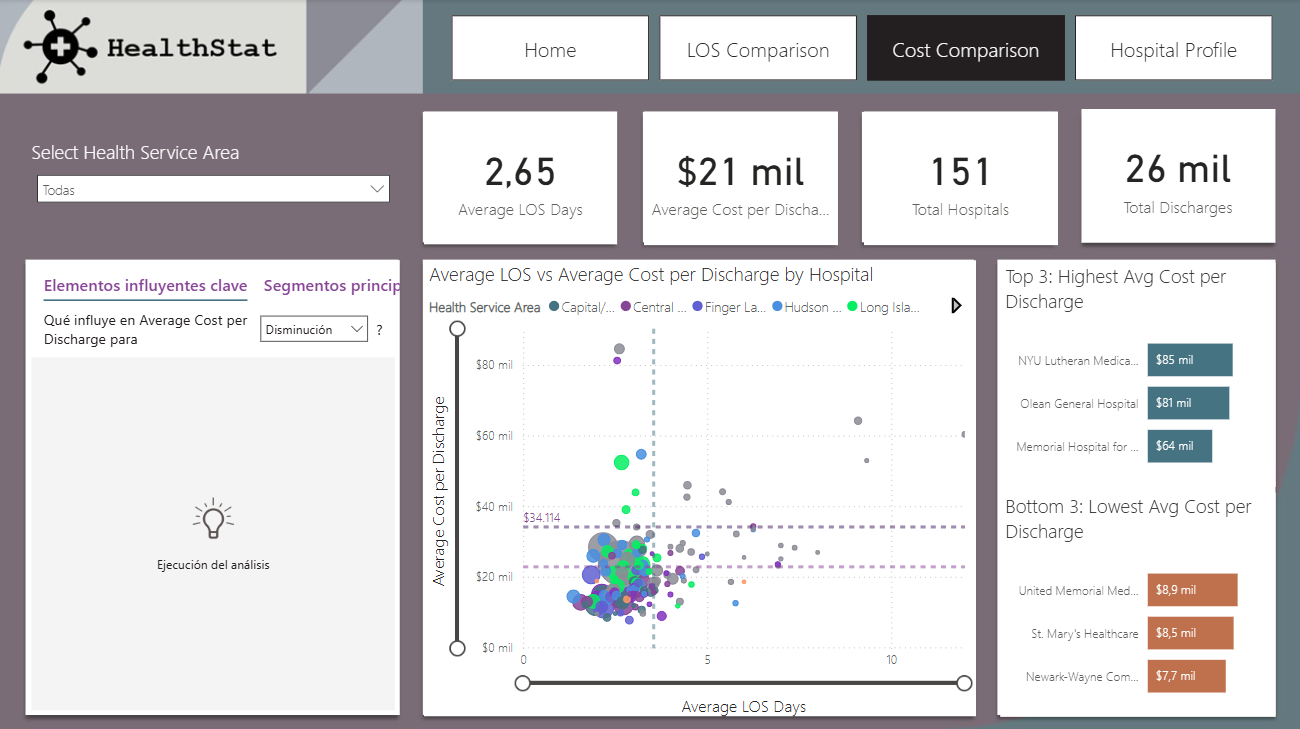

The page's visual inventory and layout, read from the dashboard file:
{"tool":"powerbi","page":{"name":"Cost Comparison","canvas":[1280,720],"ordinal":2},"visuals":[{"type":"scatterChart","title":"Average LOS vs Average Cost per Discharge by Hospital","fields":{"Category":["hospital_discharges.facility_name"],"X":["_Measures.Average LOS Days"],"Y":["_Measures.Average Cost per Discharge"],"Size":["_Measures.Total Discharges"],"Series":["hospital_discharges.health_service_area"]},"box":[416.9,256.9,541.5,446.9],"z":0},{"type":"slicer","title":"Select Health Service Area","fields":{"Values":["hospital_discharges.health_service_area"]},"box":[27.3,138,366.7,74.7],"z":1000},{"type":"keyDriversVisual","fields":{"ExplainBy":["hospital_discharges.apr_risk_of_mortality","hospital_discharges.apr_severity_of_illness_description","hospital_discharges.ccs_diagnosis_description","hospital_discharges.patient_disposition","hospital_discharges.gender","hospital_discharges.Age Bins","surgical_program_size_summary.Surgical Program Size","hospital_discharges.health_service_area"],"Target":["_Measures.Average Cost per Discharge"]},"box":[27.3,256.7,366.7,446.7],"z":2000},{"type":"clusteredBarChart","title":"Top 3: Highest Avg Cost per Discharge","fields":{"Category":["hospital_discharges.facility_name"],"Y":["_Measures.Average Cost per Discharge"]},"box":[982.7,258.7,270,220],"z":3000},{"type":"clusteredBarChart","title":"Bottom 3: Lowest Avg Cost per Discharge","fields":{"Category":["hospital_discharges.facility_name"],"Y":["_Measures.Average Cost per Discharge"]},"box":[982.5,485,270,220],"z":4000},{"type":"card","fields":{"Values":["_Measures.Average LOS Days"]},"box":[417.1,110.6,189.7,130.7],"z":5000},{"type":"card","fields":{"Values":["_Measures.Average Cost per Discharge"]},"box":[633.5,110.6,190,131.2],"z":6000},{"type":"card","fields":{"Values":["_Measures.Total Hospitals"]},"box":[848.6,110,190,131.4],"z":7000},{"type":"card","fields":{"Values":["_Measures.Total Discharges"]},"box":[1062.9,108.6,190,131.4],"z":8000},{"type":"pageNavigator","box":[444.3,15.7,808.6,64.3],"z":8001}]}

Visuals, with their boxes in screenshot pixels (x1, y1, x2, y2), scaled from the page's 1280x720 canvas onto the 1300x729 screenshot:
"Average LOS vs Average Cost per Discharge by Hospital" scatterChart: detection(423, 260, 973, 713)
"Select Health Service Area" slicer: detection(28, 140, 400, 215)
keyDriversVisual - hospital_discharges.apr_risk_of_mortality x hospital_discharges.apr_severity_of_illness_description: detection(28, 260, 400, 712)
"Top 3: Highest Avg Cost per Discharge" clusteredBarChart: detection(998, 262, 1272, 485)
"Bottom 3: Lowest Avg Cost per Discharge" clusteredBarChart: detection(998, 491, 1272, 714)
card - _Measures.Average LOS Days: detection(424, 112, 616, 244)
card - _Measures.Average Cost per Discharge: detection(643, 112, 836, 245)
card - _Measures.Total Hospitals: detection(862, 111, 1055, 244)
card - _Measures.Total Discharges: detection(1080, 110, 1272, 243)
pageNavigator: detection(451, 16, 1272, 81)
